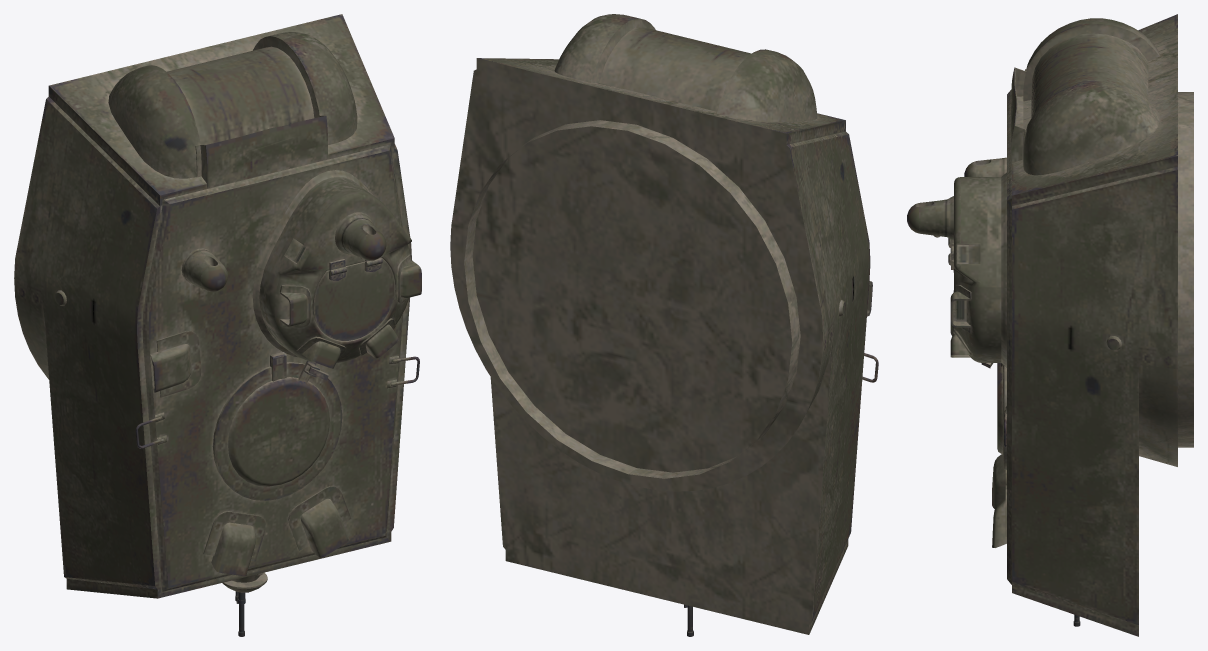
The model's file is Turret_01.glb.
3 views of the same model, side by side, from view 1: azimuth 30°, elevation 25°; view 2: azimuth 150°, elevation 25°; view 3: azimuth 270°, elevation 25° (orthographic). The views are drawn at different scales.
Parts seen in each view (by area): view 1: set_0_group_0; view 2: set_0_group_0; view 3: set_0_group_0.
Boxes of the visible parts, x1,y1,x2,y2 form: set_0_group_0: (14,14,421,636); set_0_group_0: (450,14,878,636); set_0_group_0: (907,14,1193,636).
Size of the model in its own units: 1.96 by 3.05 by 1.39.
1 material, 1 textured.
